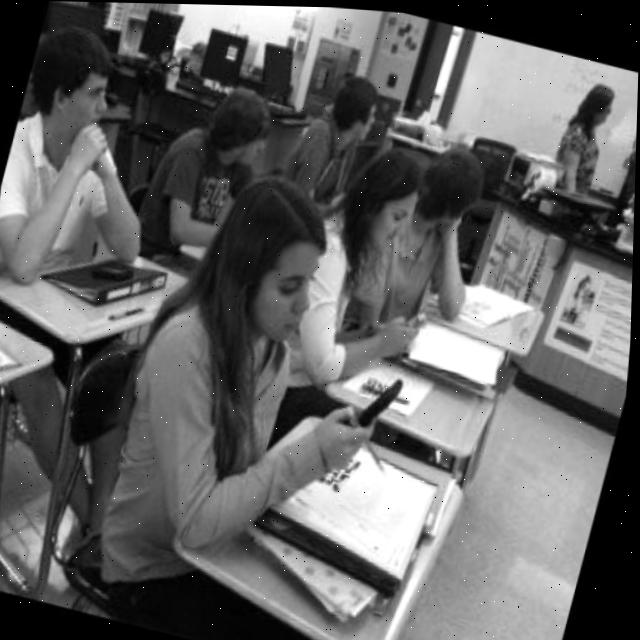phone: (356, 367, 406, 433)
